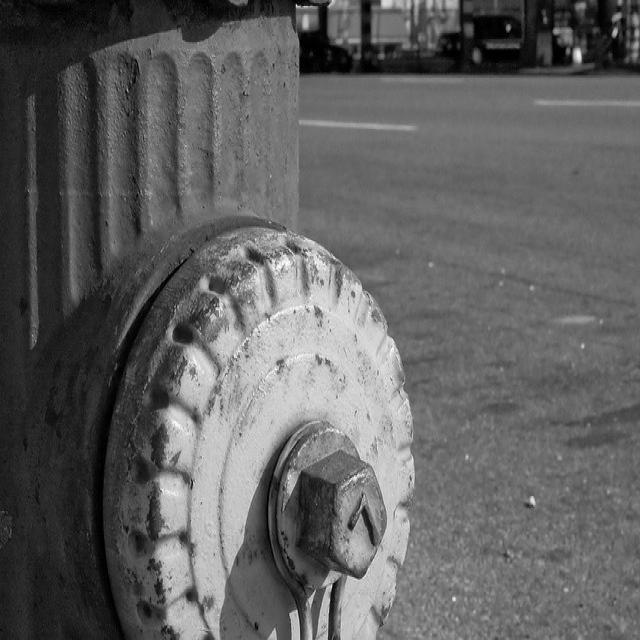car: (435, 14, 520, 64)
fire_hydrant: (0, 0, 412, 636)
